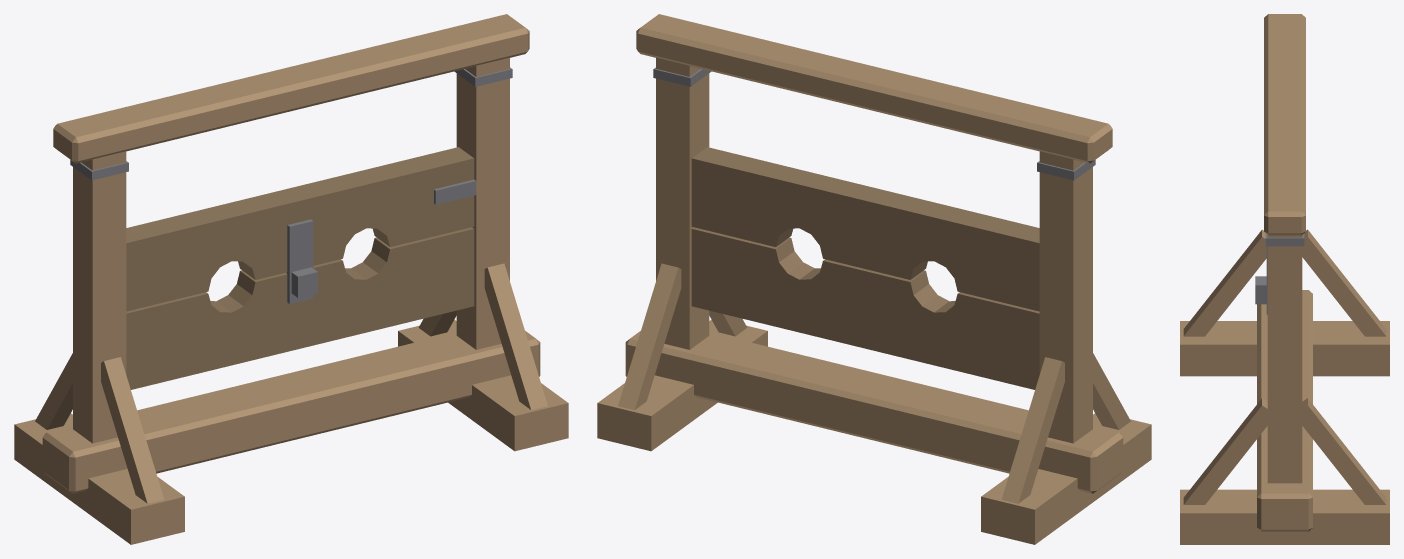
Rendered from prop-stocks-wood.glb.
3 views of the same model, side by side, from view 1: azimuth 30°, elevation 25°; view 2: azimuth 150°, elevation 25°; view 3: azimuth 270°, elevation 25° (orthographic). The views are drawn at different scales.
Visible parts, largest first — view 1: prop-stocks-wood; view 2: prop-stocks-wood; view 3: prop-stocks-wood.
Boxes of the visible parts, left/top/right/bottom form: prop-stocks-wood: left=14, top=14, right=568, bottom=544; prop-stocks-wood: left=597, top=14, right=1151, bottom=544; prop-stocks-wood: left=1180, top=14, right=1389, bottom=544.
Bounding box in the file's own units: 1.4 × 1.06 × 0.6.
